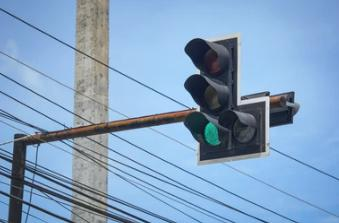green_light: (184, 32, 269, 166)
